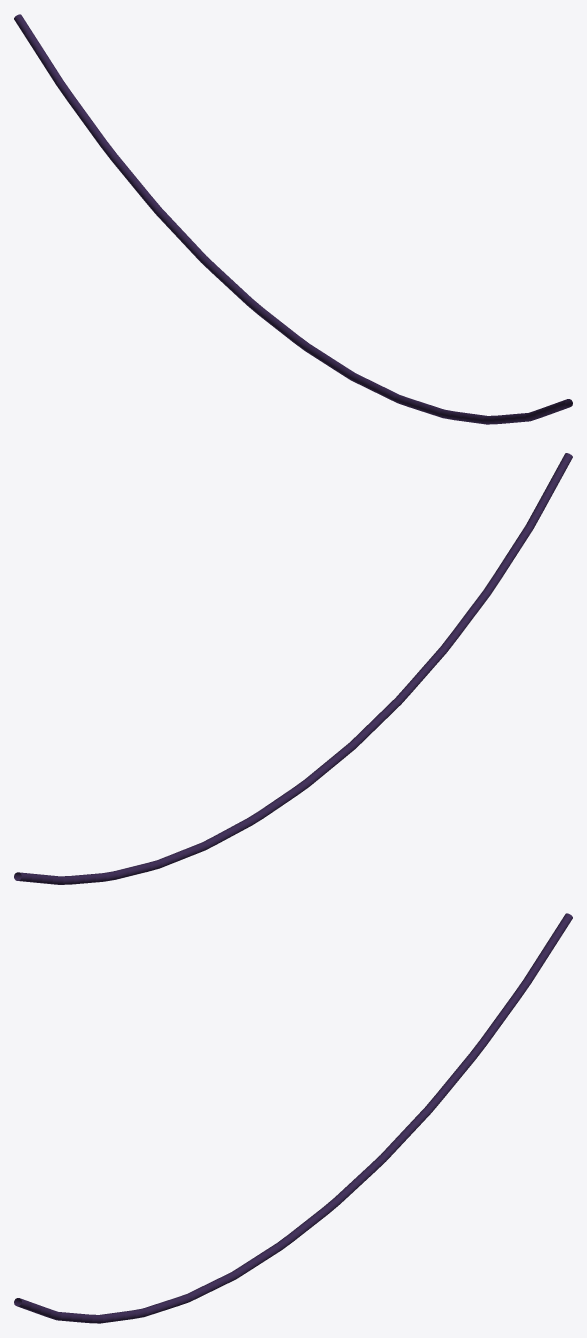
Rendered from pole_02.fbx.
3 views of the same model, one above another, from view 1: azimuth 30°, elevation 25°; view 2: azimuth 150°, elevation 25°; view 3: azimuth 330°, elevation 25° (orthographic).
Parts seen in each view (by area): view 1: Cylinder.009; view 2: Cylinder.009; view 3: Cylinder.009.
Boxes of the visible parts, x1,y1,x2,y2 form: Cylinder.009: [14, 14, 572, 424]; Cylinder.009: [14, 453, 572, 884]; Cylinder.009: [14, 913, 572, 1323].
Size of the model in its own units: 5.05 by 91.2 by 639.
